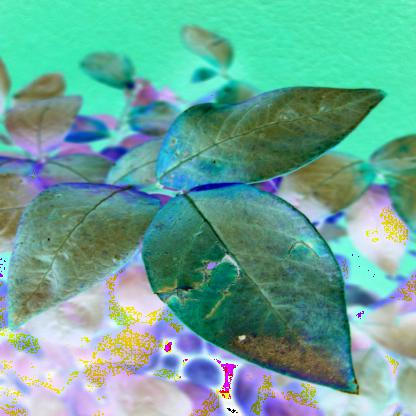Blueberry leaf: (142, 180, 373, 401), (153, 81, 388, 193), (4, 179, 163, 336)
